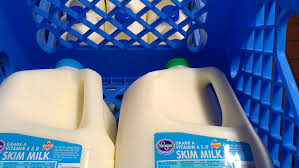milk: (121, 58, 272, 165), (1, 59, 113, 166)
